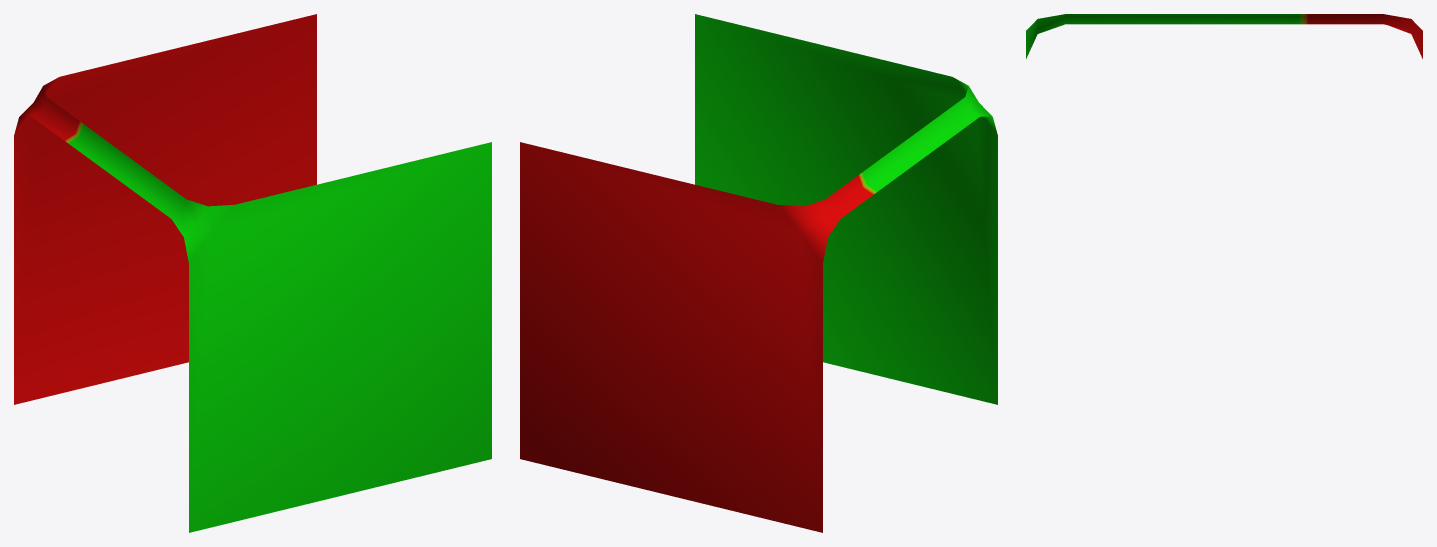
The model's file is Grass- └.fbx.
3 views of the same model, side by side, from view 1: azimuth 30°, elevation 25°; view 2: azimuth 150°, elevation 25°; view 3: azimuth 270°, elevation 25° (orthographic). The views are drawn at different scales.
Parts seen in each view (by area): view 1: Grass- └; view 2: Grass- └; view 3: Grass- └.
Boxes of the visible parts, <box> form: Grass- └: <box>14,14,491,532</box>; Grass- └: <box>520,14,997,532</box>; Grass- └: <box>1026,14,1422,58</box>.
Bounding box in the file's own units: 100 × 100 × 100.
